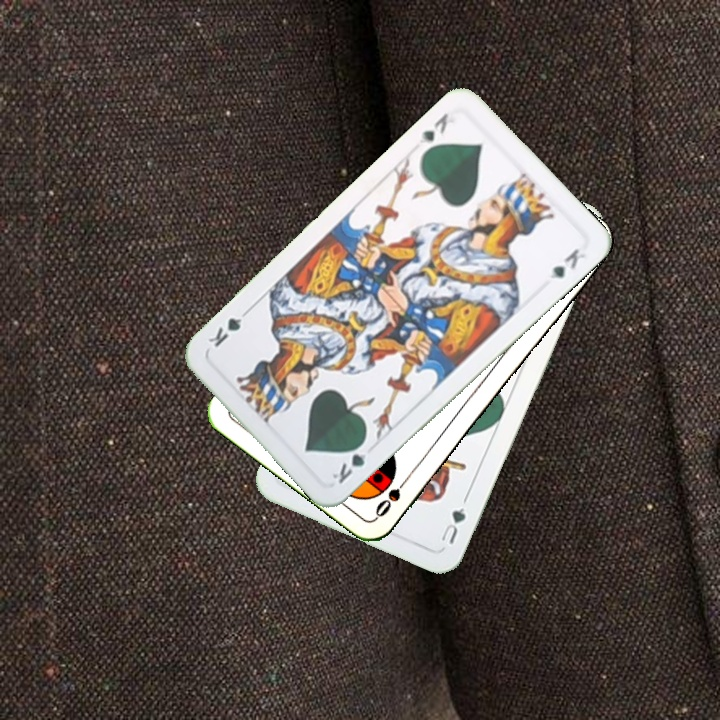GK: (327, 436, 371, 487), (415, 108, 451, 146)
GU: (437, 503, 469, 547)
SO: (371, 469, 414, 520)
